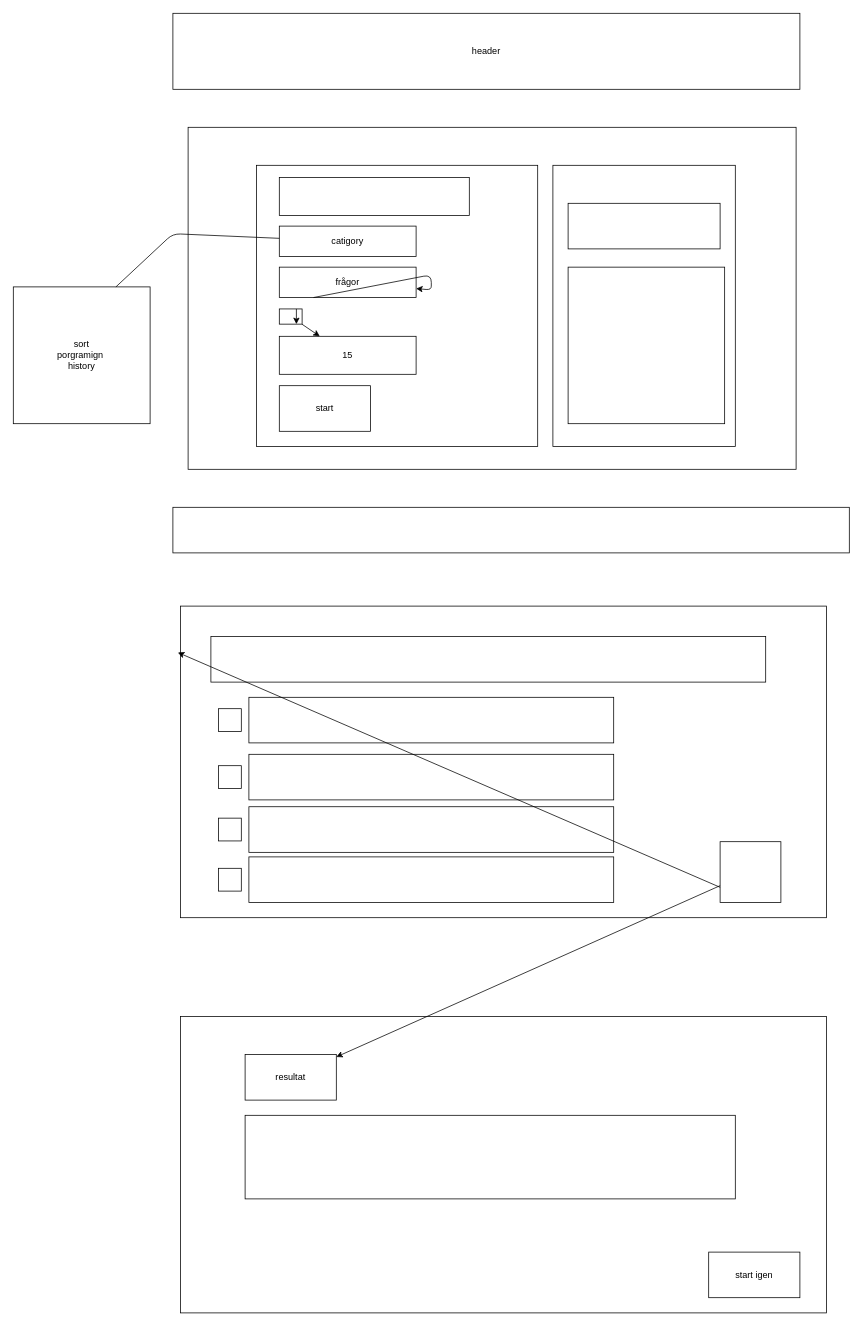
Image size: 863x1326. Some labels were removed from this diagram. The box of each missing label's shape, as (x1, y1, x2, y2) in pixels:
bast score: (567, 203, 720, 249)
footer: (172, 507, 849, 553)
frågan: (210, 636, 766, 682)
next: (719, 841, 781, 902)
